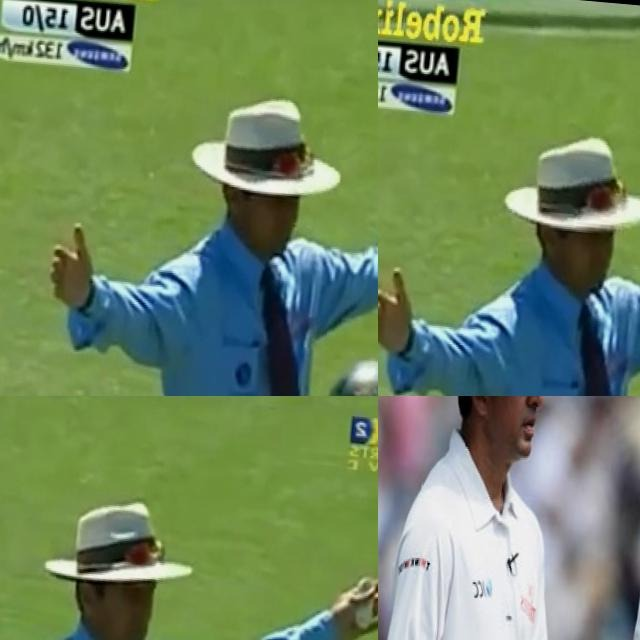No_Action: (378, 396, 626, 640), (472, 396, 640, 640)
Wide: (28, 69, 378, 396), (378, 100, 640, 396), (0, 470, 378, 640)
